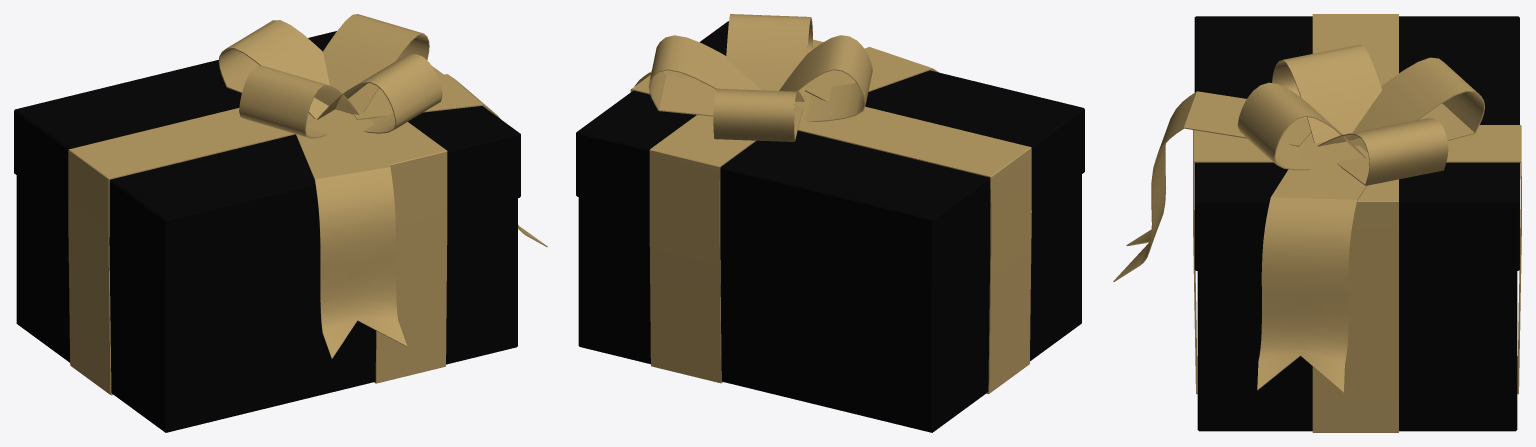
3 views of the same model, side by side, from view 1: azimuth 30°, elevation 25°; view 2: azimuth 150°, elevation 25°; view 3: azimuth 270°, elevation 25° (orthographic). The views are drawn at different scales.
Visible parts, largest first — view 1: a6cc1a28962e4e21a94f8238bb816cf14c0c5e12 > > root > (×2); view 2: a6cc1a28962e4e21a94f8238bb816cf14c0c5e12 > > root > (×2); view 3: a6cc1a28962e4e21a94f8238bb816cf14c0c5e12 > > root > (×2).
Boxes of the visible parts, x1=… form: a6cc1a28962e4e21a94f8238bb816cf14c0c5e12 > > root > (×2): x1=14, y1=14, x2=547, y2=432; a6cc1a28962e4e21a94f8238bb816cf14c0c5e12 > > root > (×2): x1=576, y1=14, x2=1084, y2=432; a6cc1a28962e4e21a94f8238bb816cf14c0c5e12 > > root > (×2): x1=1113, y1=14, x2=1521, y2=432.
Size of the model in its own units: 0.4454 by 0.275 by 0.3518.
